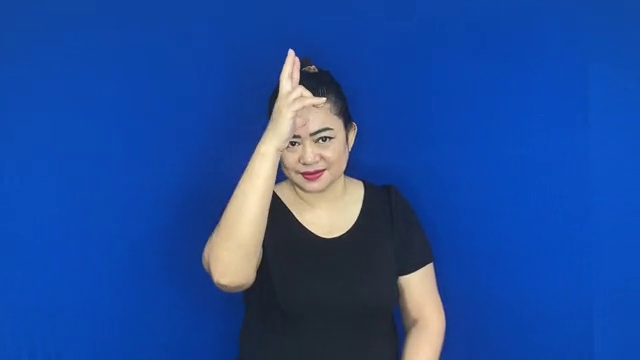chicken: (265, 40, 331, 153)
